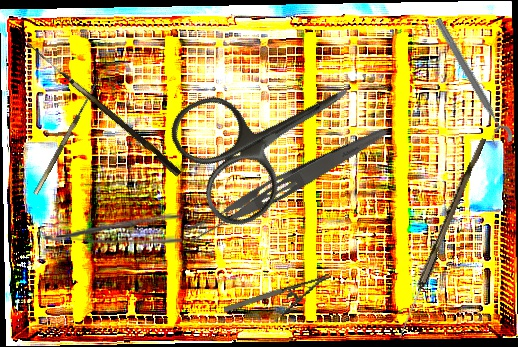Dressing Forceps: (181, 116, 391, 249), (44, 210, 183, 246)
Fixation Ring: (424, 15, 516, 150)
Hook Surgical: (20, 41, 185, 178), (27, 74, 102, 196)
Iris Scissors: (160, 33, 382, 237)
Needle Holder: (222, 273, 338, 331)
Surgical Spoon: (395, 135, 487, 341)
